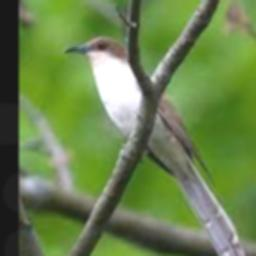Cuckoo: (63, 35, 247, 256)
